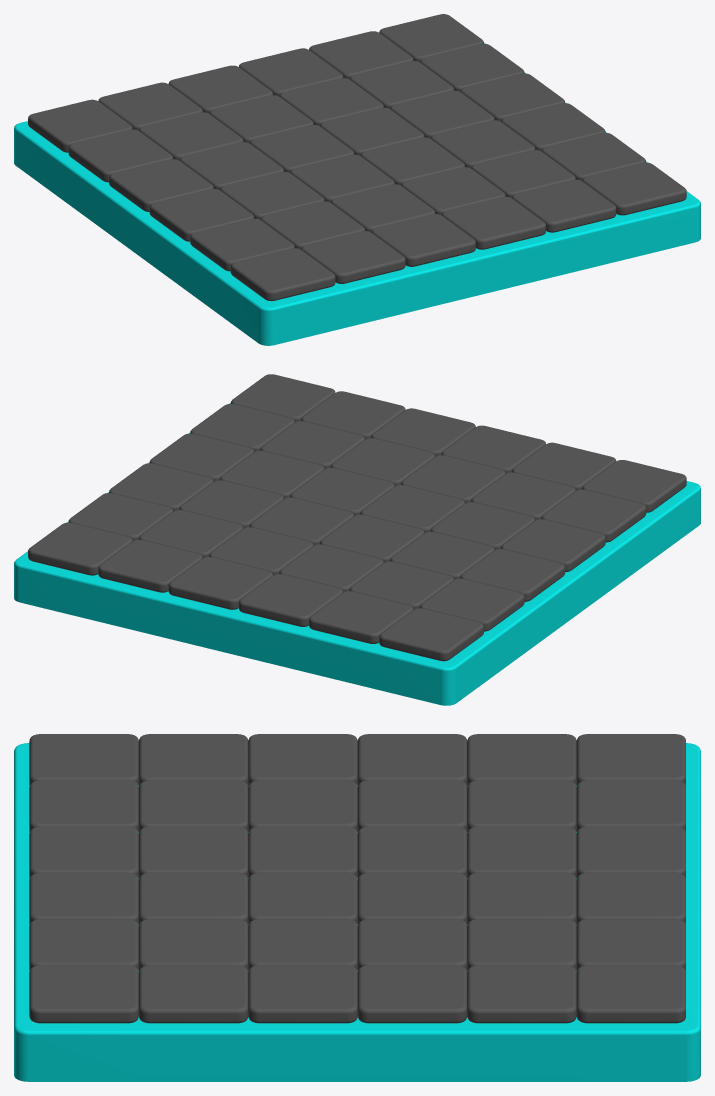
The model's file is Gid6x6.fbx.
3 views of the same model, one above another, from view 1: azimuth 30°, elevation 25°; view 2: azimuth 150°, elevation 25°; view 3: azimuth 270°, elevation 25° (orthographic). The views are drawn at different scales.
Visible parts, largest first — view 1: GridStand, f44, f8, f16, f23, f30, f37, f46, f45, f48, f49, f47 (+25 smaller); view 2: GridStand, f49, f13, f21, f35, f28, f42, f45, f48, f46, f44, f47 (+25 smaller); view 3: GridStand, f11, f8, f9, f14, f13, f12, f19, f40, f47, f26, f33 (+25 smaller).
Boxes of the visible parts, bbox=[...] form: GridStand: bbox=[14, 43, 700, 345]; f44: bbox=[230, 248, 335, 301]; f8: bbox=[582, 162, 686, 215]; f16: bbox=[512, 179, 616, 232]; f23: bbox=[441, 196, 546, 249]; f30: bbox=[371, 214, 475, 266]; f37: bbox=[301, 231, 405, 283]; f46: bbox=[149, 189, 254, 241]; f45: bbox=[190, 218, 294, 271]; f48: bbox=[68, 129, 173, 182]; f49: bbox=[28, 99, 132, 152]; f47: bbox=[109, 159, 213, 211]; GridStand: bbox=[14, 403, 700, 705]; f49: bbox=[379, 608, 483, 661]; f13: bbox=[28, 522, 132, 575]; f21: bbox=[98, 539, 202, 592]; f35: bbox=[238, 574, 343, 626]; f28: bbox=[168, 557, 272, 609]; f42: bbox=[309, 591, 413, 643]; f45: bbox=[541, 489, 646, 542]; f48: bbox=[419, 578, 524, 631]; f46: bbox=[501, 519, 605, 572]; f44: bbox=[582, 460, 686, 512]; f47: bbox=[460, 549, 564, 601]; GridStand: bbox=[14, 743, 700, 1081]; f11: bbox=[357, 965, 467, 1023]; f8: bbox=[29, 965, 138, 1023]; f9: bbox=[139, 965, 248, 1023]; f14: bbox=[248, 965, 357, 1023]; f13: bbox=[576, 965, 685, 1023]; f12: bbox=[467, 965, 576, 1023]; f19: bbox=[357, 919, 467, 970]; f40: bbox=[357, 780, 467, 831]; f47: bbox=[357, 734, 467, 785]; f26: bbox=[357, 872, 467, 923]; f33: bbox=[357, 826, 467, 877].
Size of the model in its own units: 21.56 by 2.26 by 21.56.
